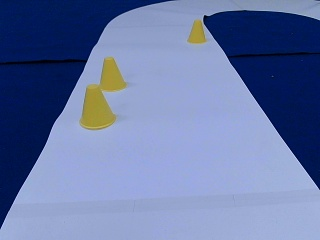cone: (80, 85, 115, 128), (99, 57, 126, 90), (187, 20, 205, 43)
